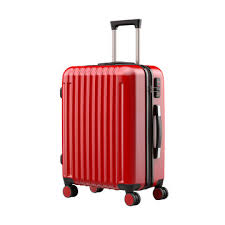suitcase: (57, 17, 171, 207)
